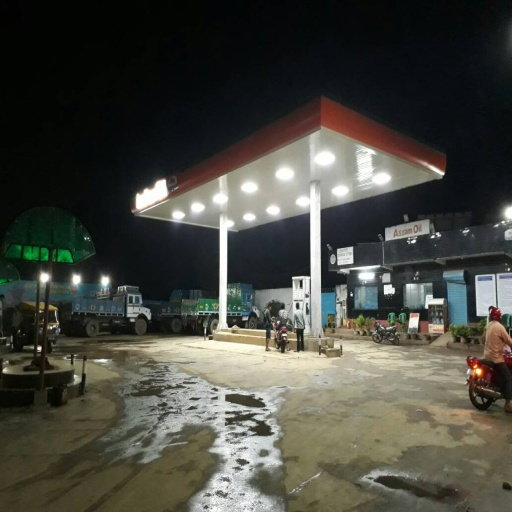roof: (125, 101, 450, 236)
